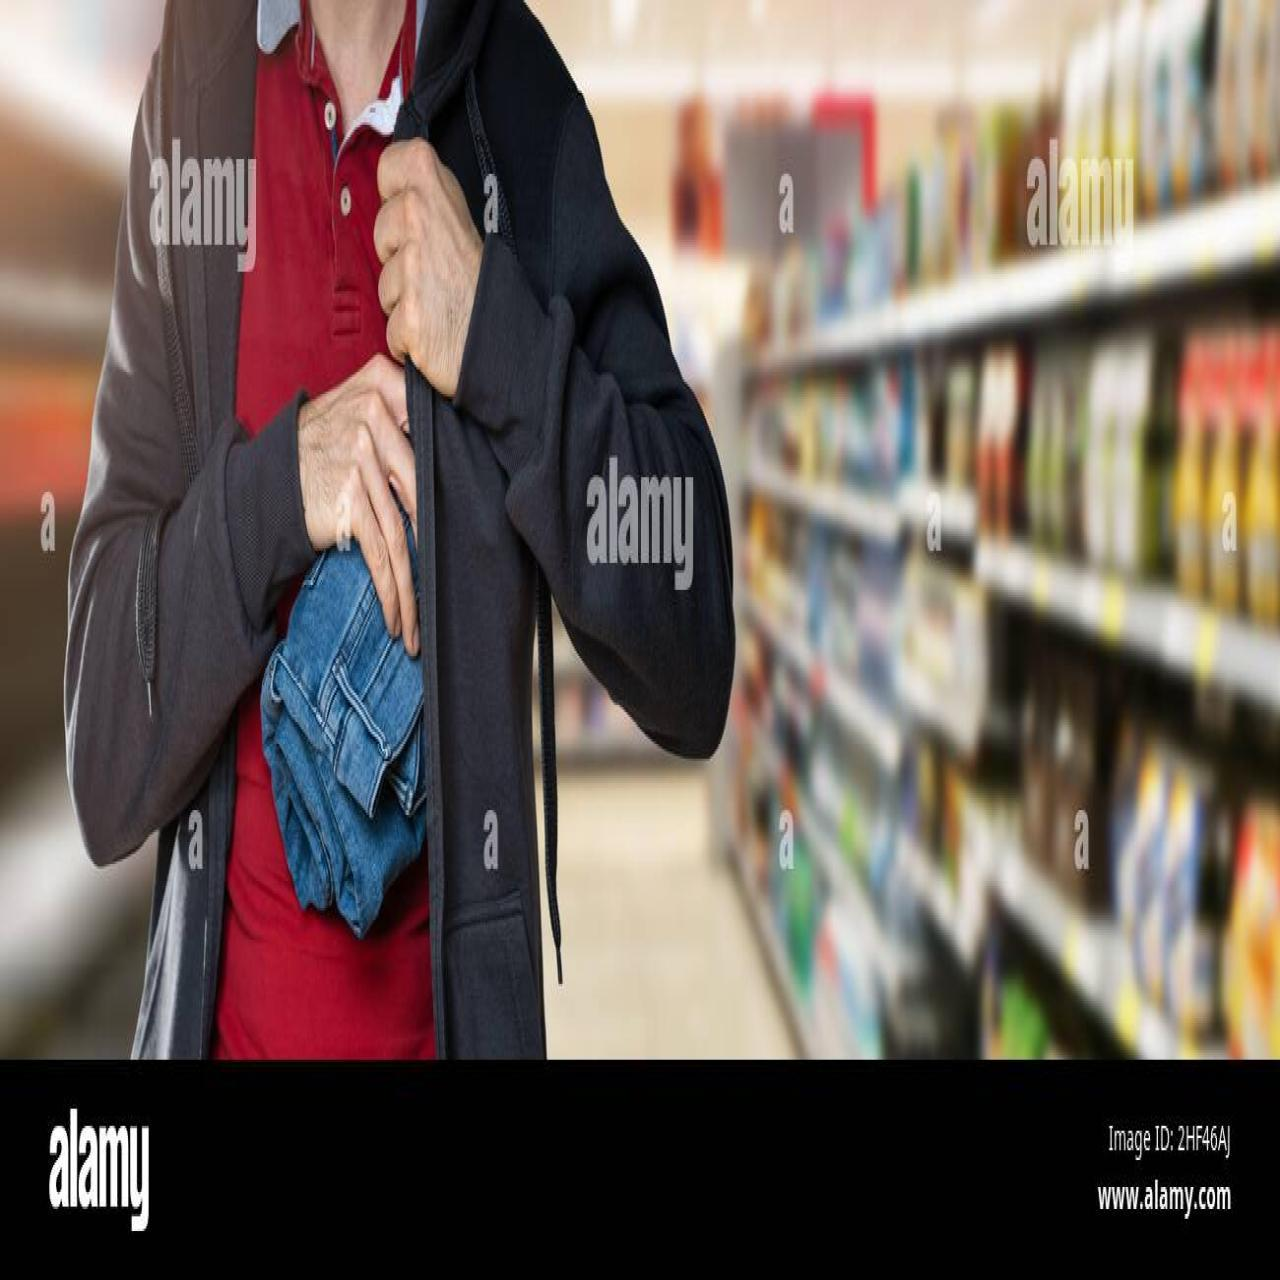Shoplifting: (220, 105, 600, 1049)
